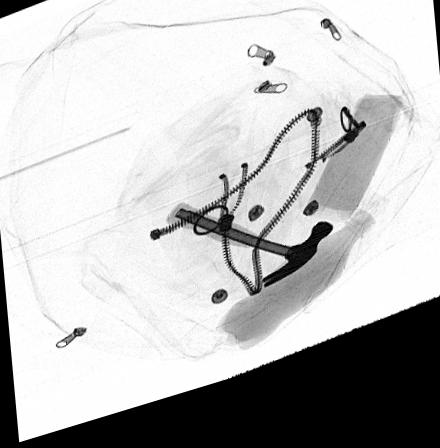Hammer: (165, 213, 333, 305)
